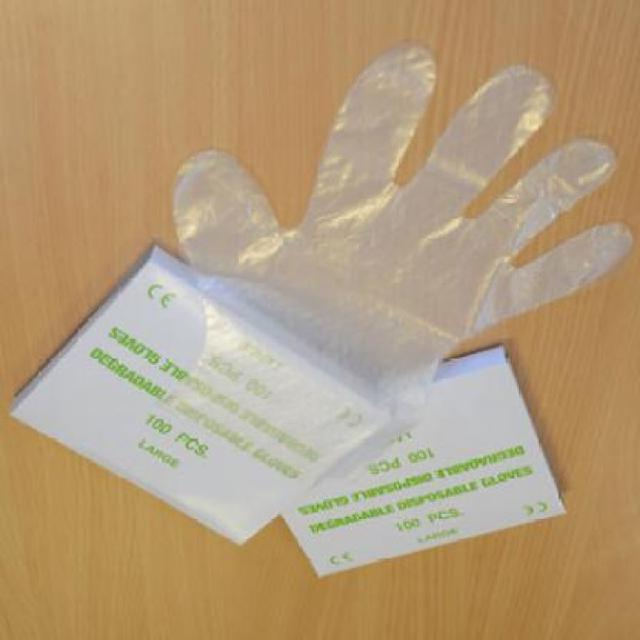gloved_hand: (98, 40, 634, 489)
